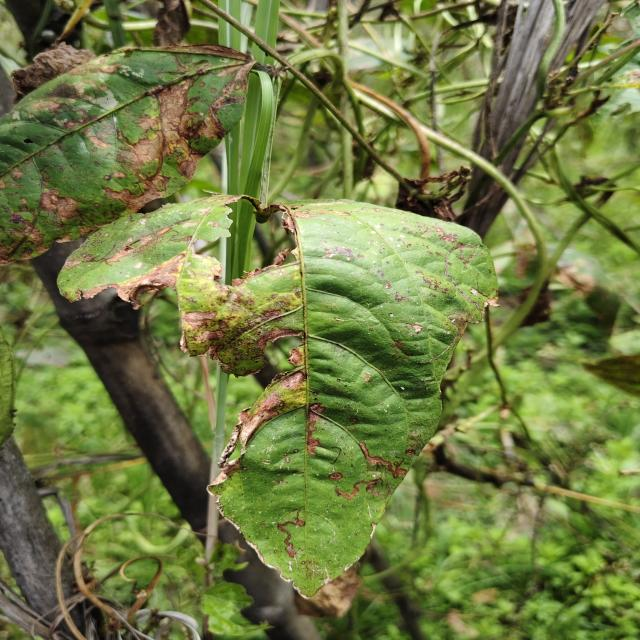leaf-moderate: (33, 195, 498, 640), (0, 45, 258, 264)
